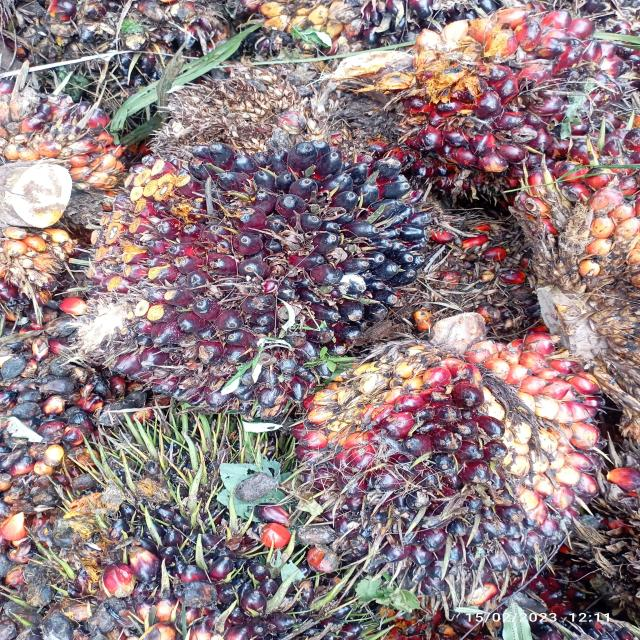fraksi 1: (85, 135, 447, 412), (297, 308, 602, 610), (376, 4, 640, 188)
